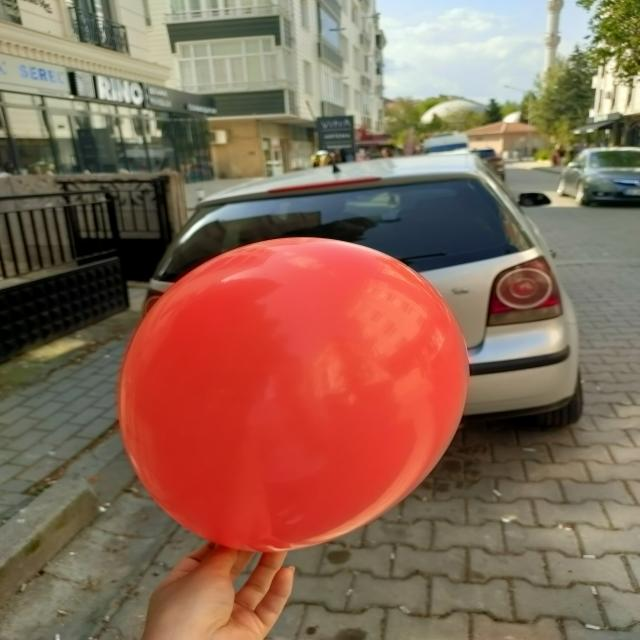red: (121, 236, 471, 553)
